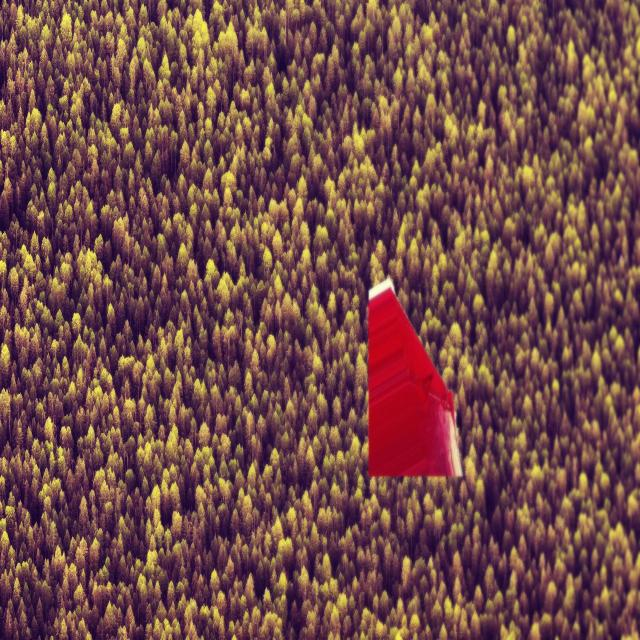airplane: (367, 276, 463, 478)
